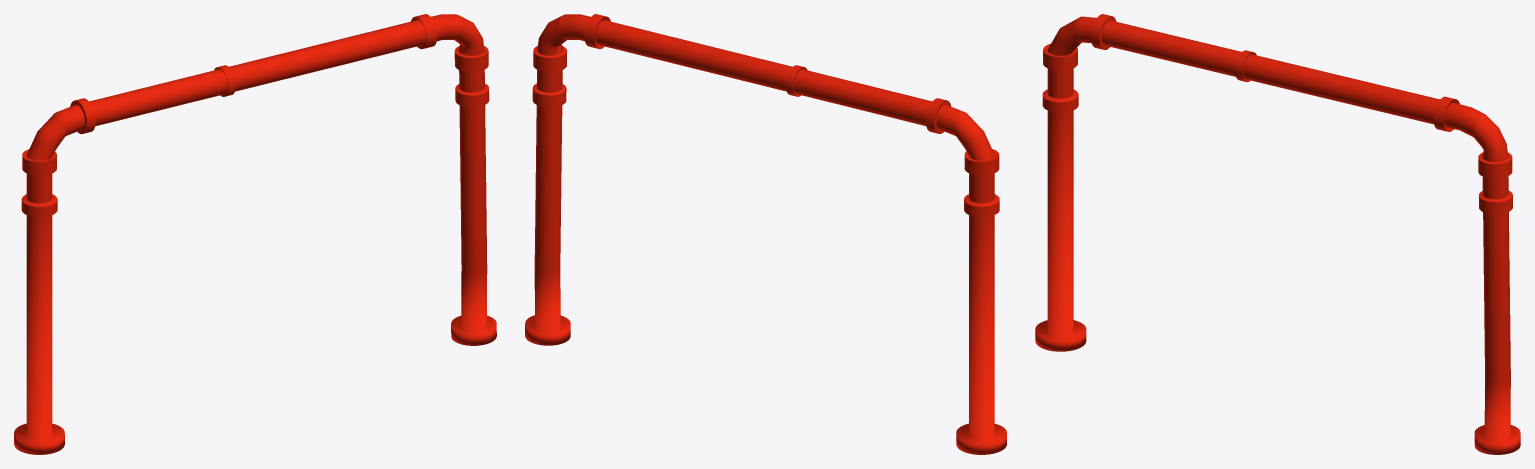
Rendered from pipe railing.fbx.
3 renders of one model, left to right at view 1: azimuth 30°, elevation 25°; view 2: azimuth 150°, elevation 25°; view 3: azimuth 330°, elevation 25°, orthographic.
Visible parts, largest first — view 1: Cylinder; view 2: Cylinder; view 3: Cylinder.
Part boxes in pixels (left/top/right/bottom): Cylinder: left=14, top=14, right=496, bottom=454; Cylinder: left=525, top=14, right=1006, bottom=454; Cylinder: left=1035, top=14, right=1520, bottom=454.
Bounding box in the file's own units: 525 × 352 × 48.52.
